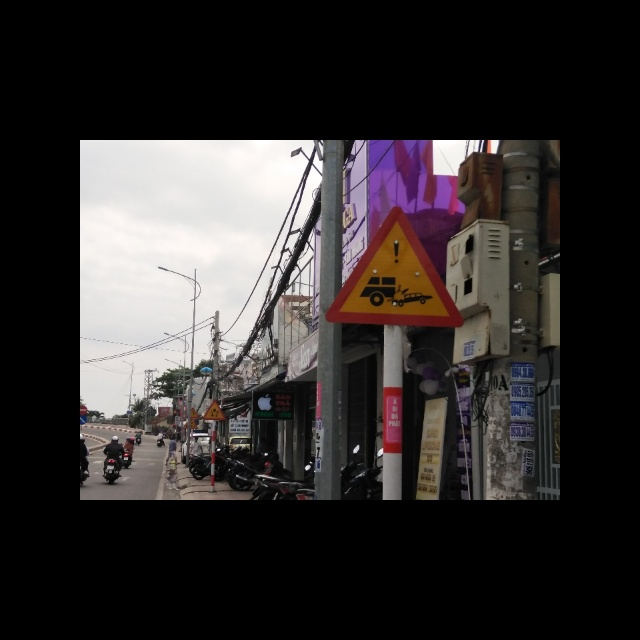Đoạn đường hay xảy ra tai nạn: (321, 208, 466, 330)
Đường đôi: (201, 398, 226, 420)
